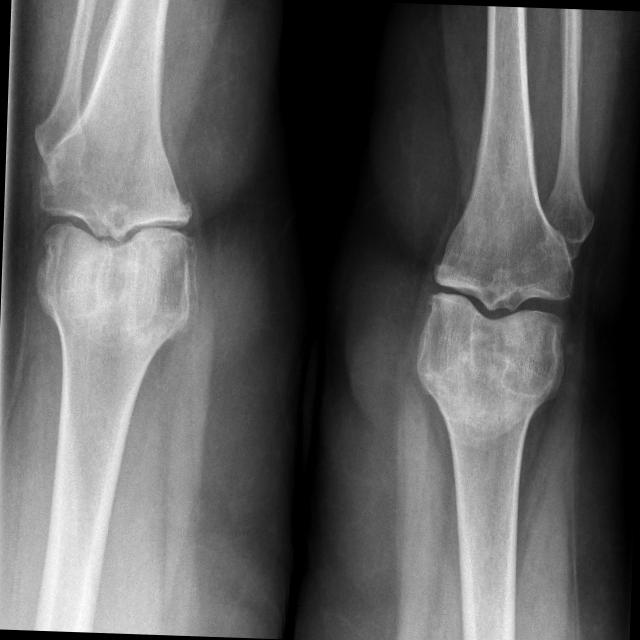Knee: (35, 155, 202, 300), (416, 236, 578, 376)
